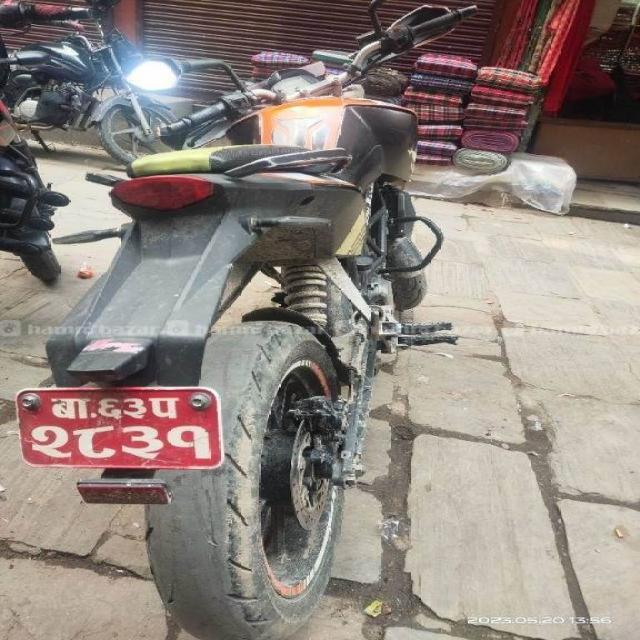License-plate: (13, 390, 225, 473)
